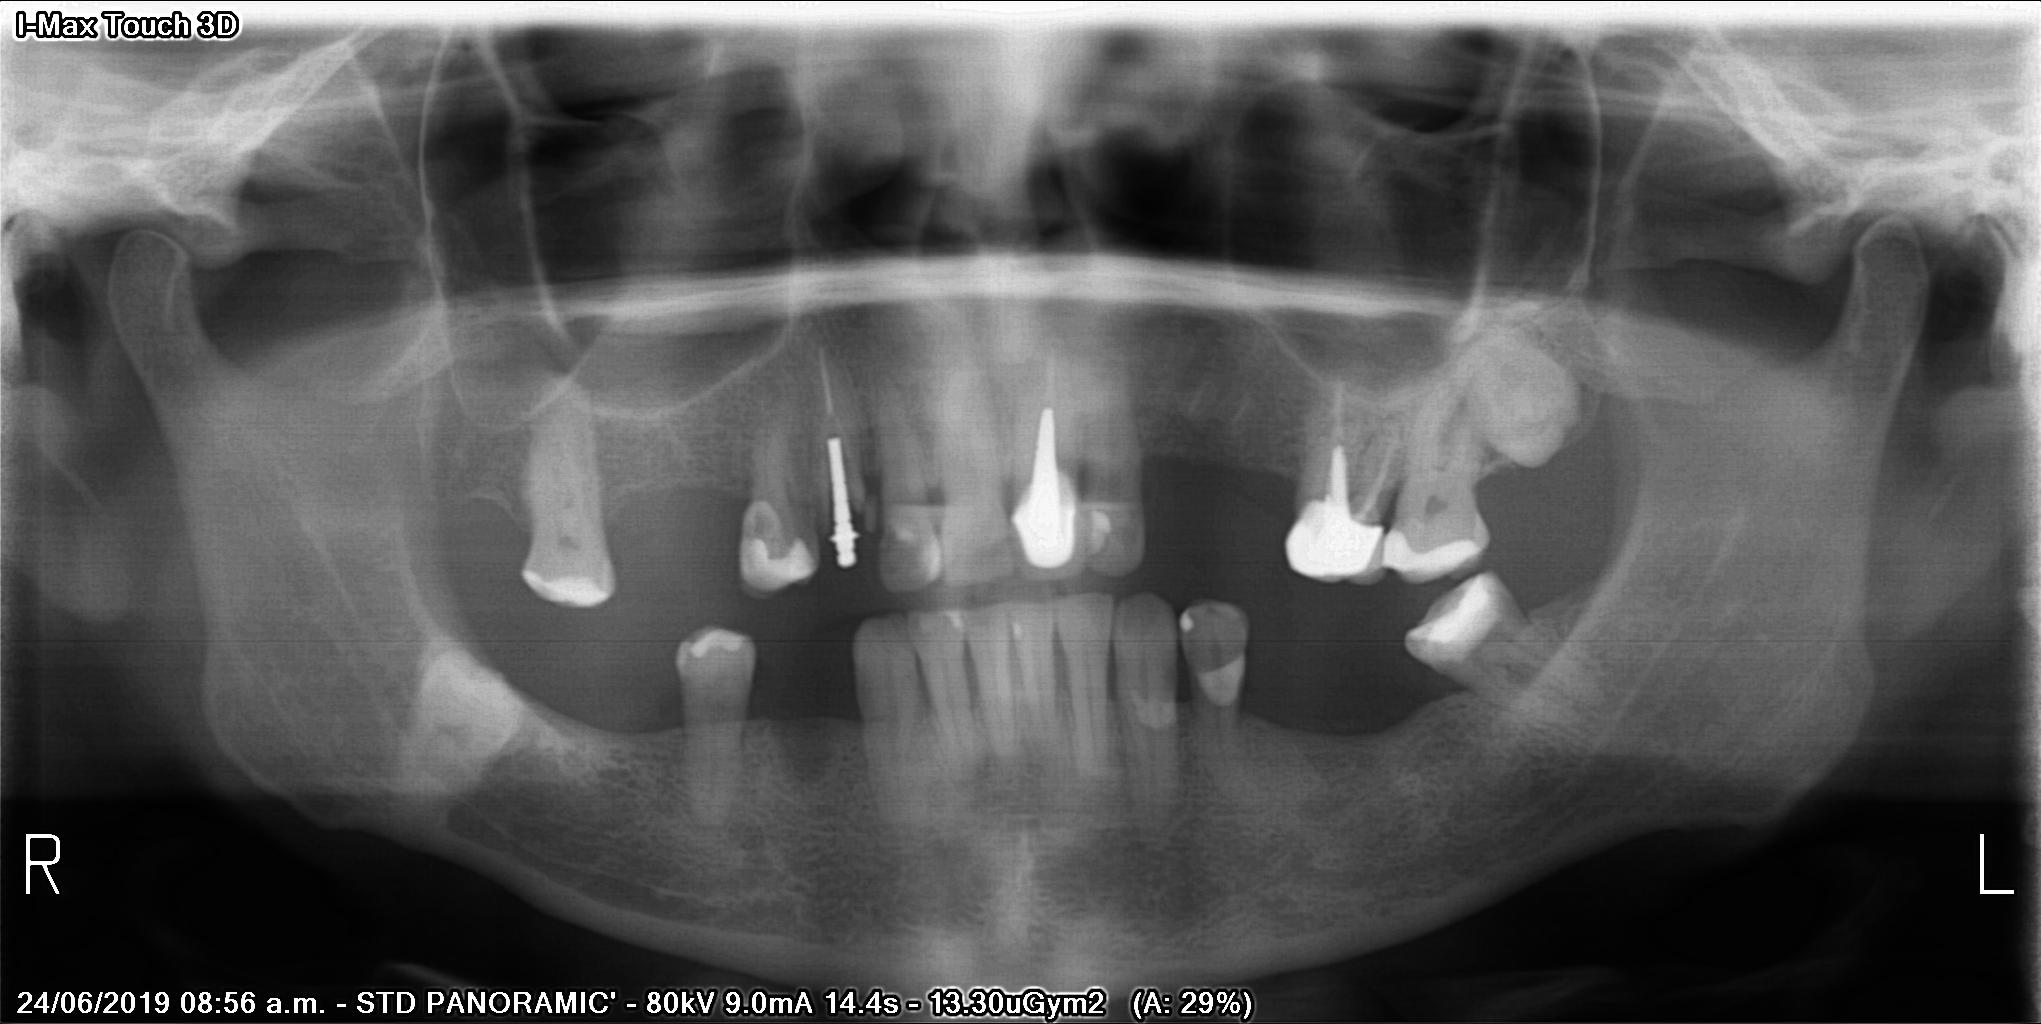Çürük: (1406, 571, 1498, 662), (1281, 505, 1387, 578), (1370, 523, 1488, 578), (1014, 480, 1084, 570)
Çürük Bölgesi: (1087, 539, 1114, 573), (843, 510, 871, 540)
